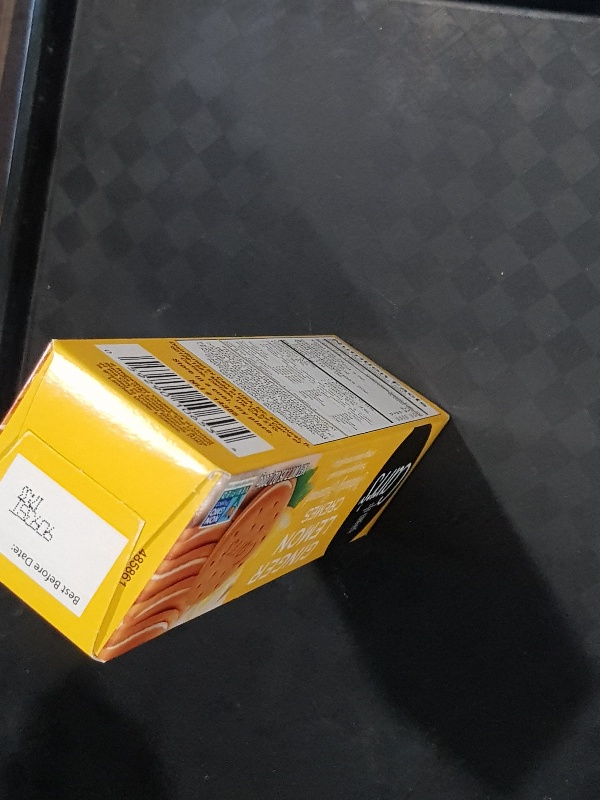Carr's Ginger Lemon Cremes: (1, 333, 448, 662)
